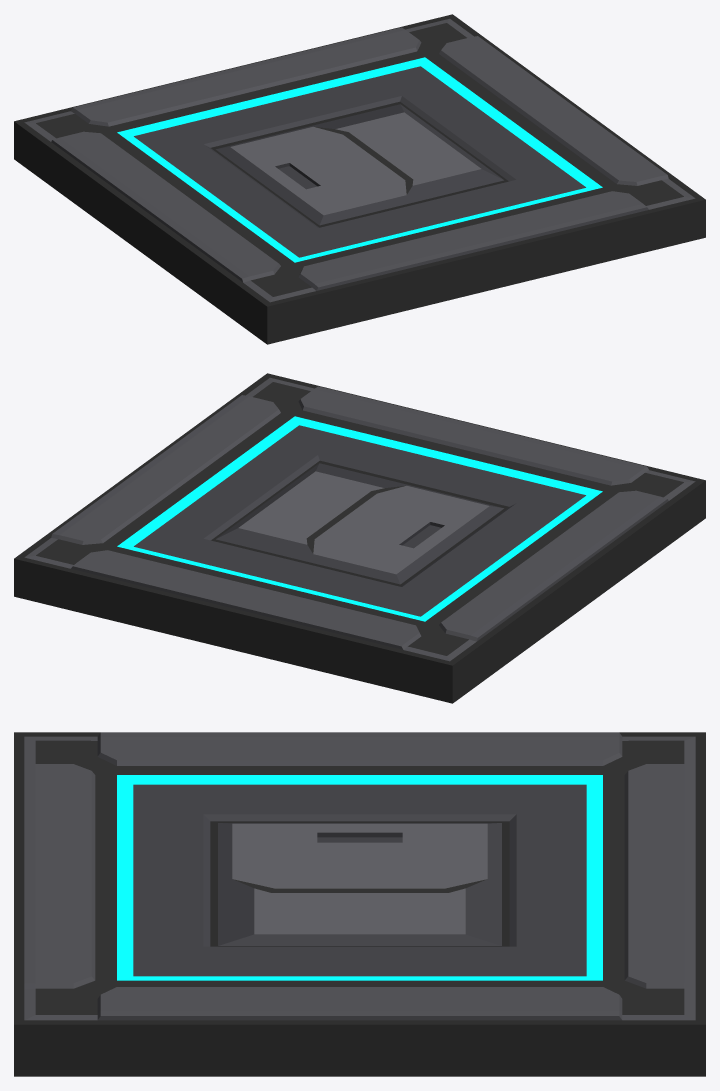
File: SM_Bld_Floor_Small_02.fbx
3 renders of one model, top to bottom at view 1: azimuth 30°, elevation 25°; view 2: azimuth 150°, elevation 25°; view 3: azimuth 270°, elevation 25°, orthographic. The views are drawn at different scales.
Visible parts, largest first — view 1: SM_Bld_Floor_Small_02_LOD0; view 2: SM_Bld_Floor_Small_02_LOD0; view 3: SM_Bld_Floor_Small_02_LOD0.
Part boxes in pixels (<box>): SM_Bld_Floor_Small_02_LOD0: <box>14,14,705,344</box>; SM_Bld_Floor_Small_02_LOD0: <box>14,373,705,703</box>; SM_Bld_Floor_Small_02_LOD0: <box>14,732,705,1076</box>.
Bounding box in the file's own units: 250 × 250 × 22.65.
1 material, 1 textured.
